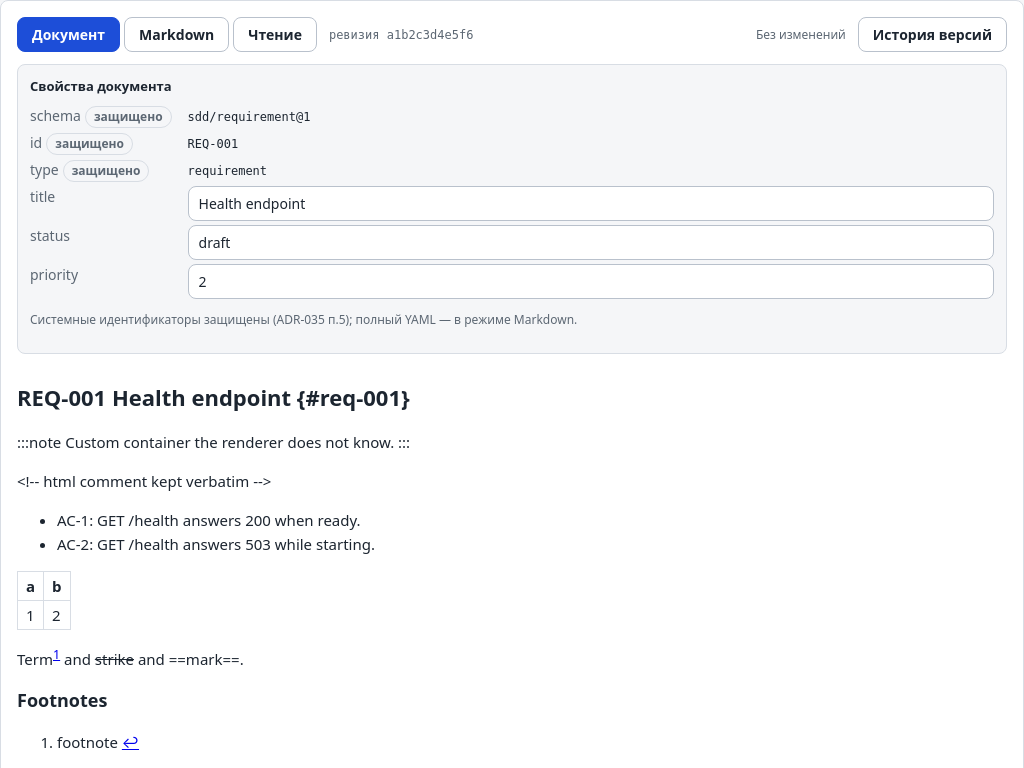
Test: MarkdownEditor (T090, ADR-035) › shows the autosave error honestly
The width and height of the screenshot is (1024, 768).
Click the button with test id "editor-mode-markdown" at point(177, 34), box [124,17,229,52]
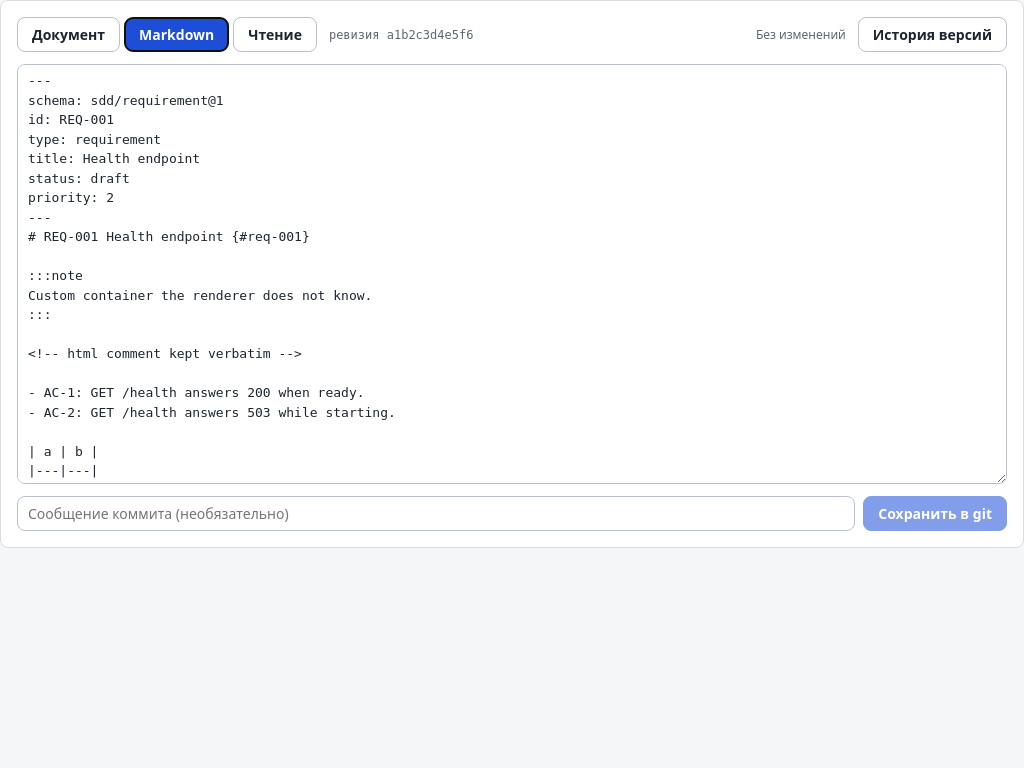
Type "y" into the text box with test id "editor-textarea" at point(512, 274), box [17,64,1007,484]
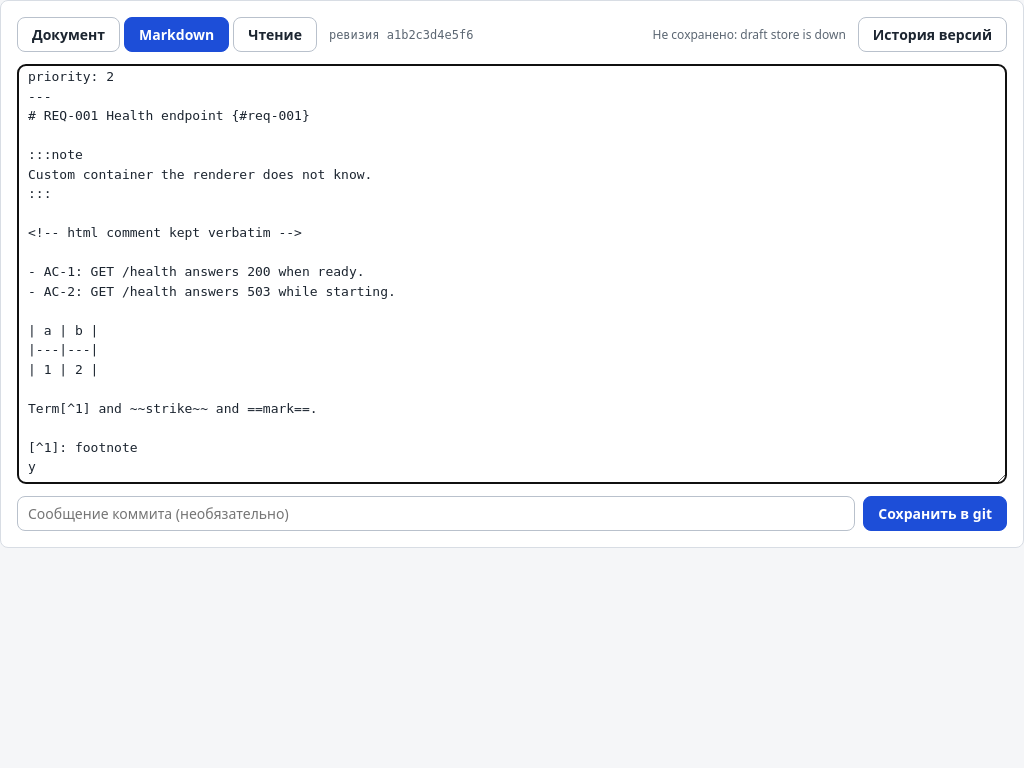
Check: the message with test id "editor-save-state" reads "Не сохранено: draft store is down", box [653,26,846,42]
